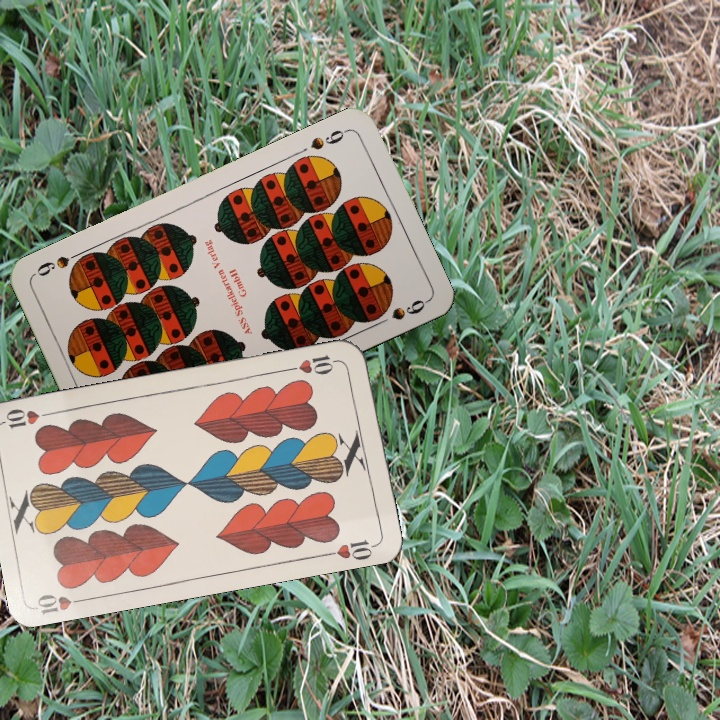H10: (33, 590, 92, 617), (285, 351, 344, 377)
S9: (306, 125, 352, 153)
